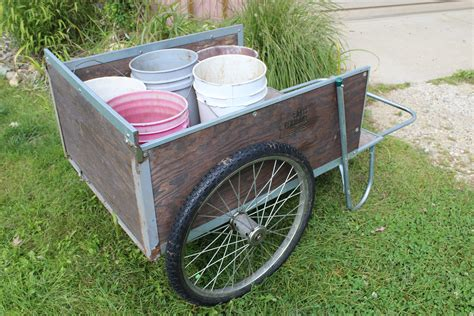Carts: (42, 23, 418, 306)
